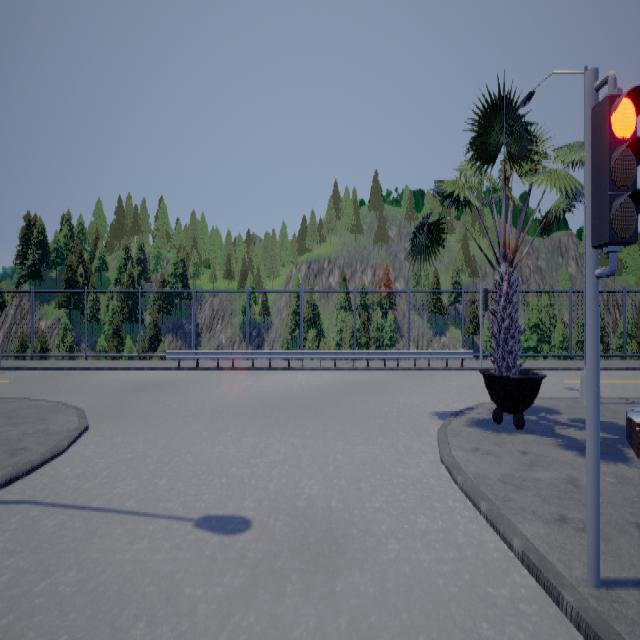red_light: (590, 69, 639, 278)
